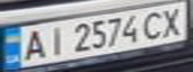2: (69, 19, 93, 54)
4: (121, 11, 145, 44)
5: (87, 17, 109, 51)
7: (103, 15, 127, 47)
A: (15, 26, 51, 62)
C: (139, 7, 169, 40)
I: (39, 22, 69, 56)
X: (157, 3, 190, 38)
